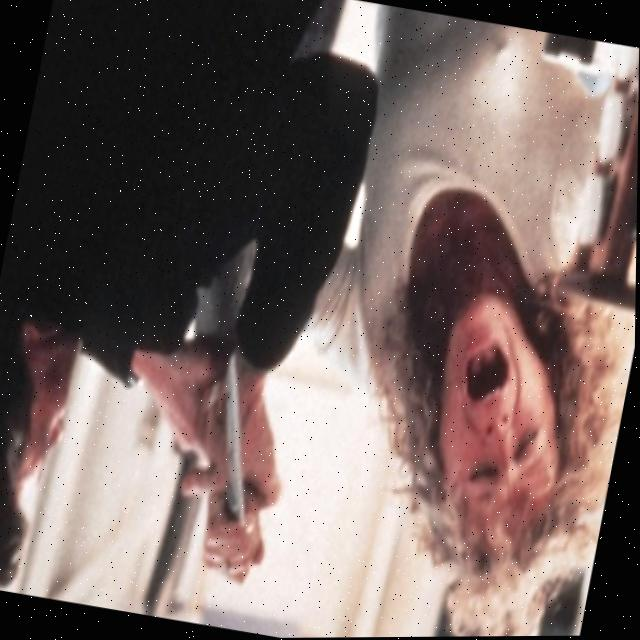knife: (182, 343, 286, 522)
